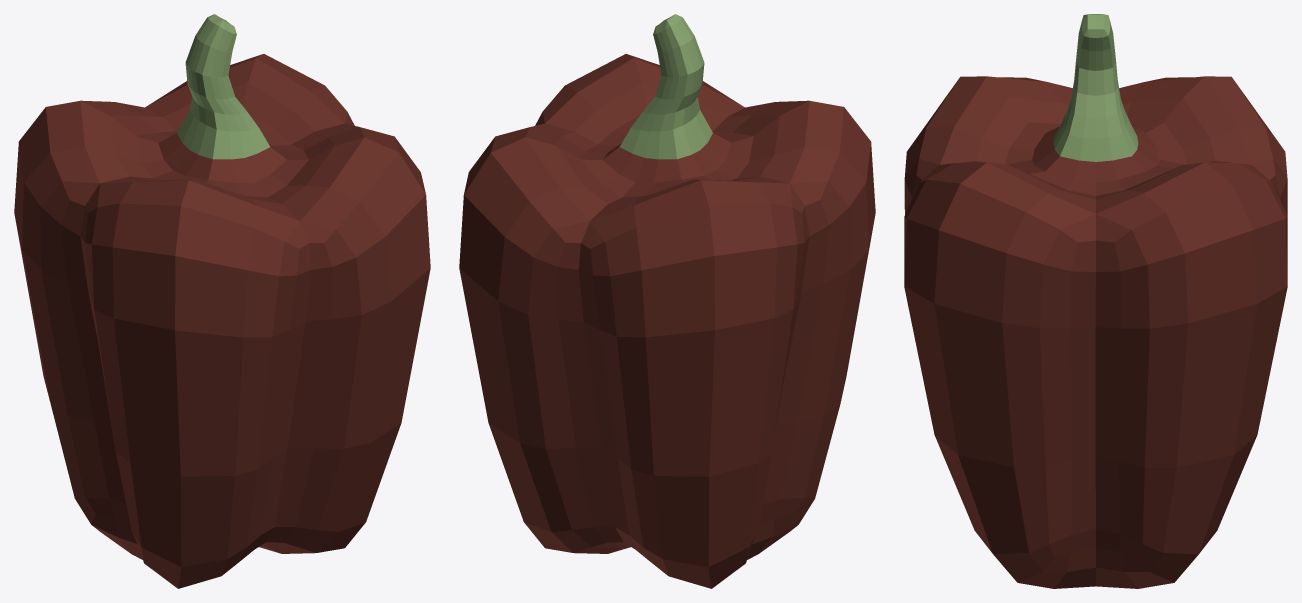
Rendered from Pepper_Red.glb.
3 renders of one model, left to right at view 1: azimuth 30°, elevation 25°; view 2: azimuth 150°, elevation 25°; view 3: azimuth 270°, elevation 25°, orthographic.
Visible parts, largest first — view 1: Pepper_Red; view 2: Pepper_Red; view 3: Pepper_Red.
Boxes of the visible parts, bbox=[...] form: Pepper_Red: bbox=[14, 14, 430, 588]; Pepper_Red: bbox=[459, 14, 875, 588]; Pepper_Red: bbox=[904, 14, 1287, 588].
Size of the model in its own units: 0.674 by 1.11 by 0.7118.
